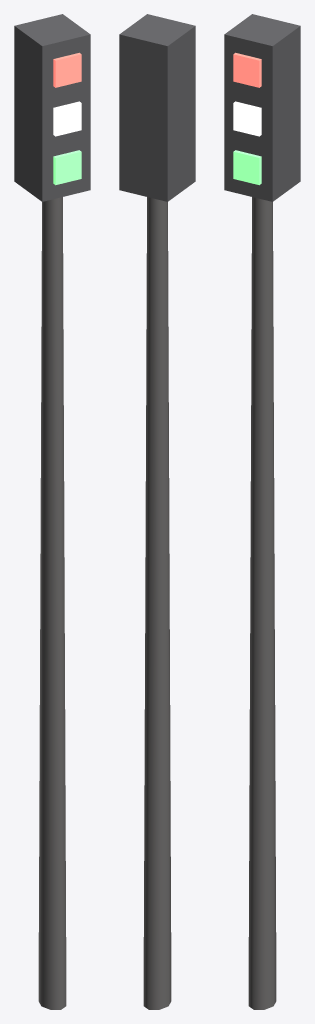
Rendered from trafficlight_v2.glb.
The picture shows the model from 3 angles, left to right: view 1: azimuth 30°, elevation 25°; view 2: azimuth 150°, elevation 25°; view 3: azimuth 330°, elevation 25°; orthographic projection.
Visible parts, largest first — view 1: trafficlight_v2; view 2: trafficlight_v2; view 3: trafficlight_v2.
Part boxes in pixels (box(x1,y1,x2,y2)): trafficlight_v2: box(14, 14, 90, 1009); trafficlight_v2: box(119, 14, 195, 1009); trafficlight_v2: box(224, 14, 300, 1009).
Bounding box in the file's own units: 0.26 × 5 × 0.28.
5 materials, 1 textured.
